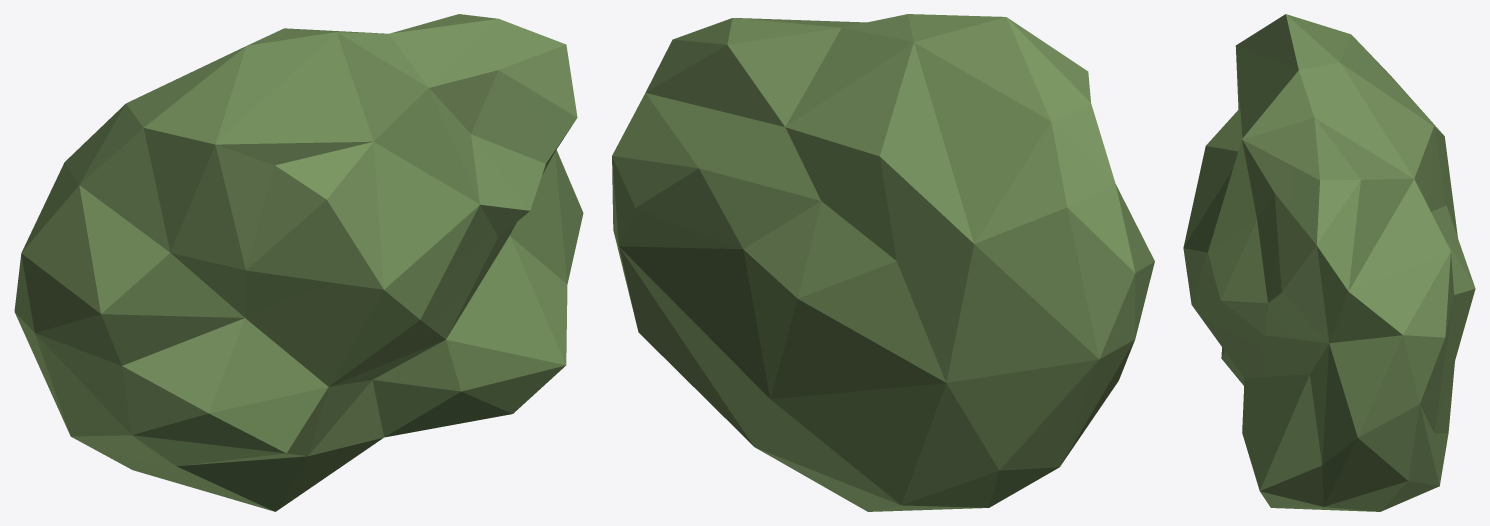
The model's file is bush2.gltf.
3 views of the same model, side by side, from view 1: azimuth 30°, elevation 25°; view 2: azimuth 150°, elevation 25°; view 3: azimuth 270°, elevation 25° (orthographic). The views are drawn at different scales.
Visible parts, largest first — view 1: Bush_1_2_LOD0; view 2: Bush_1_2_LOD0; view 3: Bush_1_2_LOD0.
Part boxes in pixels (x1,y1,x2,y2): Bush_1_2_LOD0: [14, 14, 583, 511]; Bush_1_2_LOD0: [612, 14, 1154, 511]; Bush_1_2_LOD0: [1183, 14, 1475, 511].
Size of the model in its own units: 2.36 by 2.03 by 1.19.
